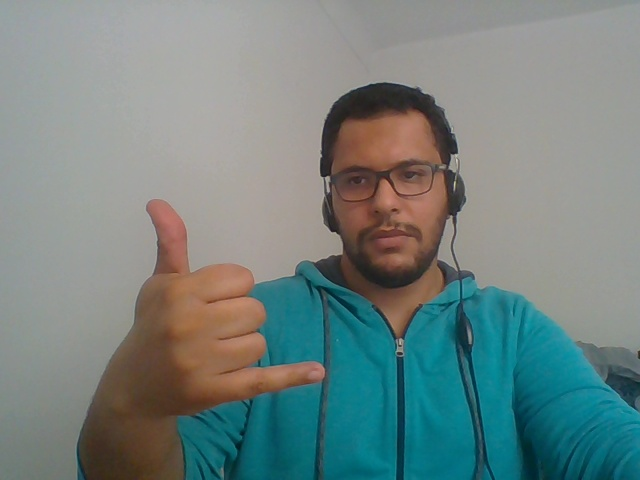callme: (78, 158, 323, 472)
